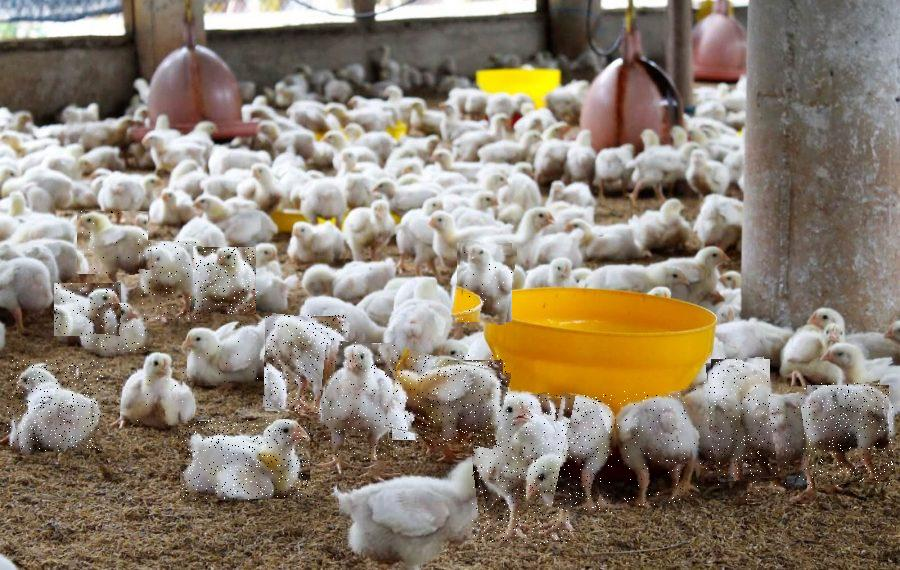chicken: (340, 457, 528, 568), (473, 395, 572, 546), (390, 355, 508, 446), (179, 420, 311, 500), (803, 384, 893, 487), (617, 392, 698, 506), (7, 360, 104, 452), (322, 343, 398, 460), (545, 393, 613, 514), (709, 358, 775, 482), (265, 315, 348, 413), (744, 394, 814, 506), (686, 383, 744, 495), (121, 351, 194, 425), (135, 242, 202, 321), (187, 324, 271, 385), (454, 241, 515, 324), (77, 211, 149, 274), (194, 247, 259, 314), (54, 283, 121, 336), (84, 304, 149, 352)
